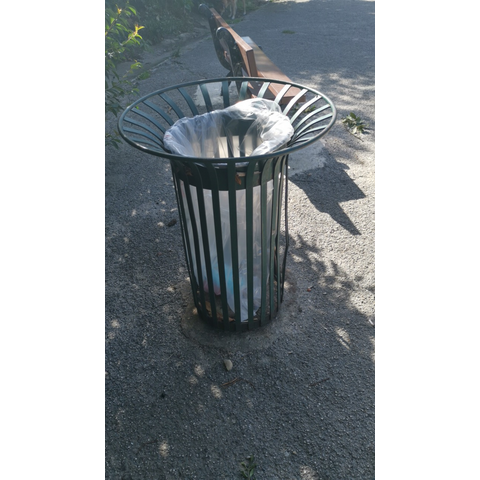poubelle: (119, 73, 339, 336)
